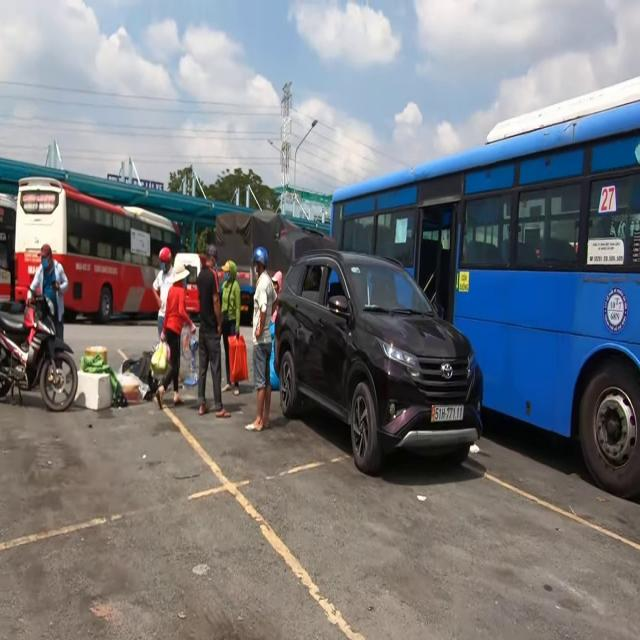bien_trang: (431, 401, 468, 425)
